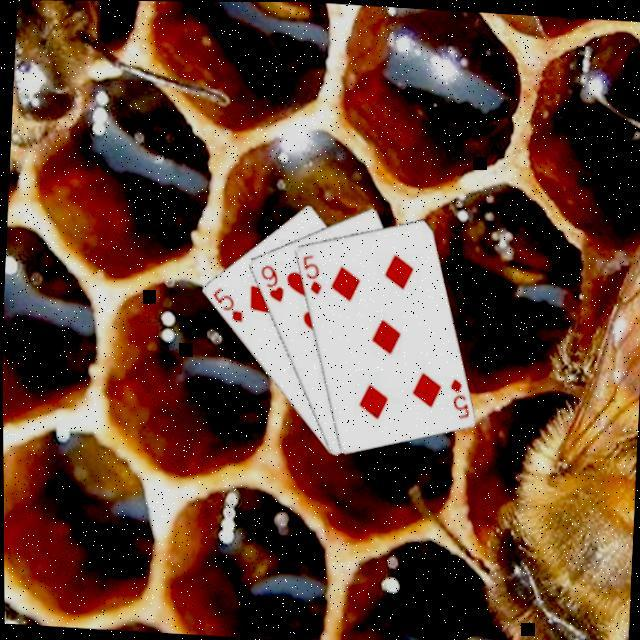5D: (208, 284, 248, 326), (298, 252, 326, 298), (446, 376, 474, 422)
9H: (256, 262, 288, 306)
